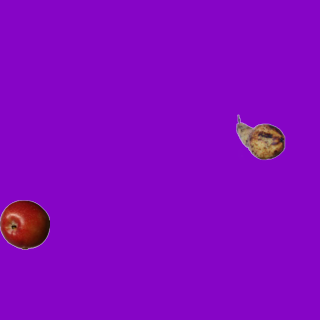Apple Braeburn: (0, 199, 49, 249)
Pear Abate: (235, 112, 285, 162)
